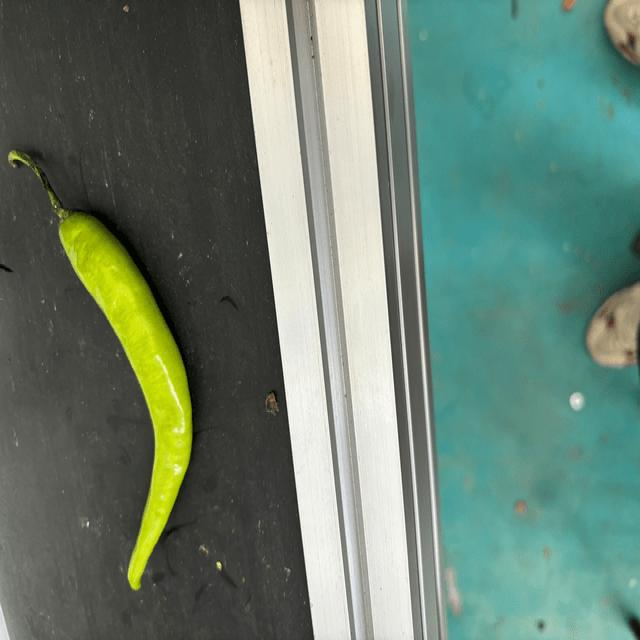chili: (55, 206, 196, 592)
